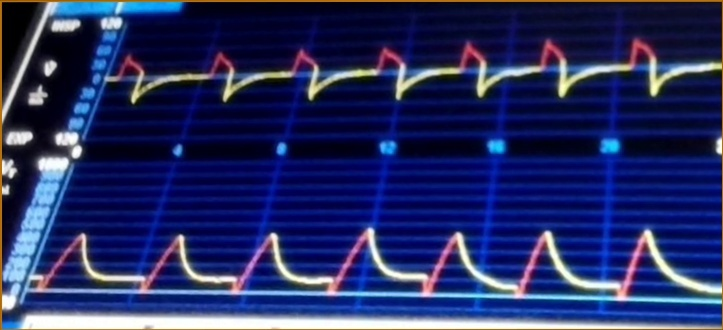Flow: (116, 30, 723, 134)
Leakage Volume: (36, 216, 723, 310)
